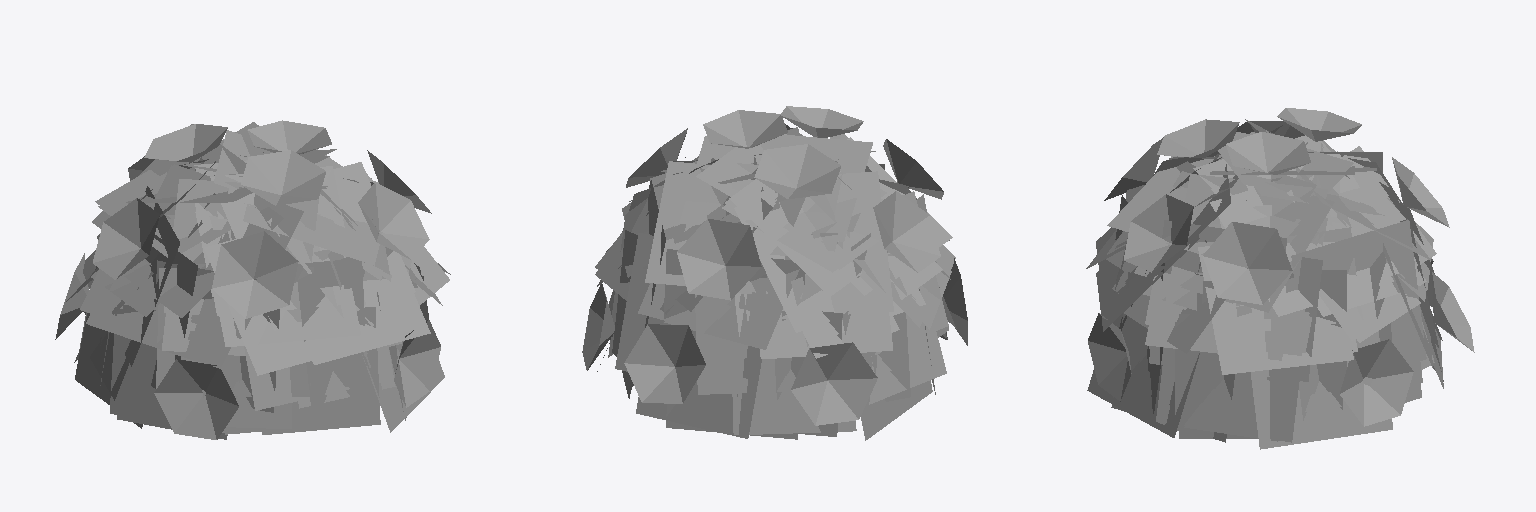
File: Bush_Flowers.obj
3 renders of one model, left to right at view 1: azimuth 30°, elevation 25°; view 2: azimuth 150°, elevation 25°; view 3: azimuth 270°, elevation 25°, orthographic.
Parts seen in each view (by area): view 1: Bush_Flowers_Plane.003; view 2: Bush_Flowers_Plane.003; view 3: Bush_Flowers_Plane.003.
Boxes of the visible parts, box(x1,y1,x2,y2) form: Bush_Flowers_Plane.003: box(55, 120, 450, 439); Bush_Flowers_Plane.003: box(582, 106, 967, 440); Bush_Flowers_Plane.003: box(1086, 108, 1474, 449).
Size of the model in its own units: 1.09 by 0.7585 by 1.11.